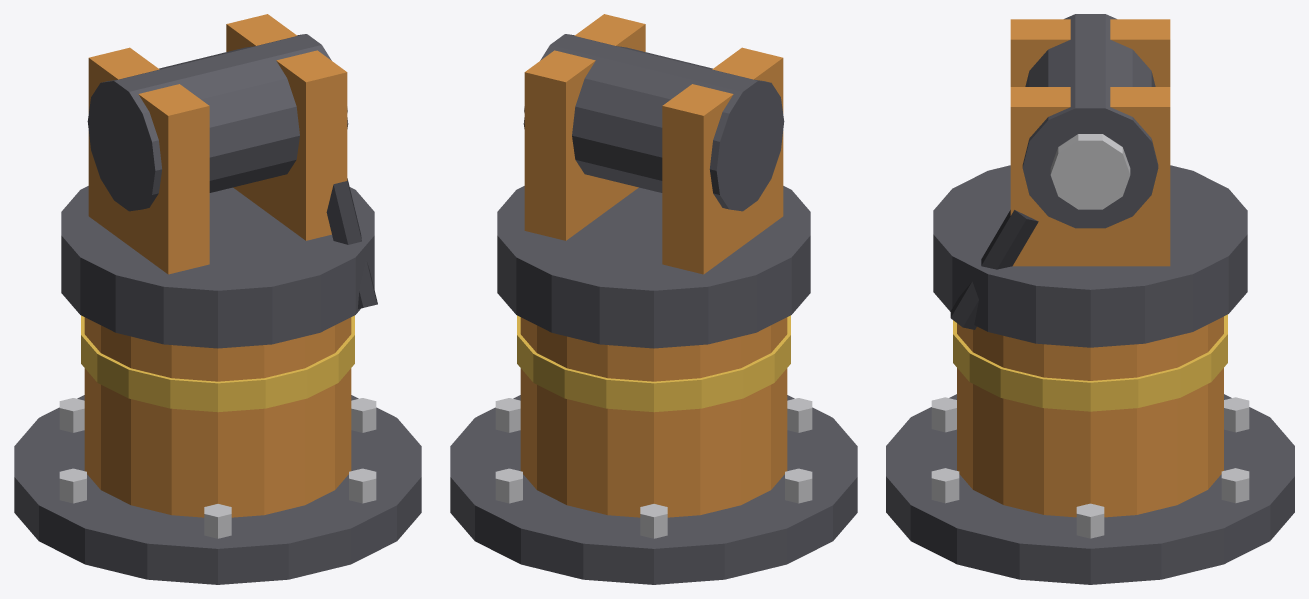
The model's file is robot-base.glb.
The picture shows the model from 3 angles, left to right: view 1: azimuth 30°, elevation 25°; view 2: azimuth 150°, elevation 25°; view 3: azimuth 270°, elevation 25°; orthographic projection.
Parts seen in each view (by area): view 1: vantor_s0, vantor_s-1; view 2: vantor_s-1, vantor_s0; view 3: vantor_s0, vantor_s-1.
Boxes of the visible parts, left/top/right/bottom form: vantor_s0: left=14, top=14, right=421, bottom=584; vantor_s-1: left=14, top=34, right=354, bottom=540; vantor_s-1: left=450, top=34, right=832, bottom=584; vantor_s0: left=450, top=14, right=857, bottom=548; vantor_s0: left=886, top=14, right=1294, bottom=584; vantor_s-1: left=953, top=14, right=1294, bottom=584.
Bounding box in the file's own units: 0.52 × 0.6029 × 0.5121.
